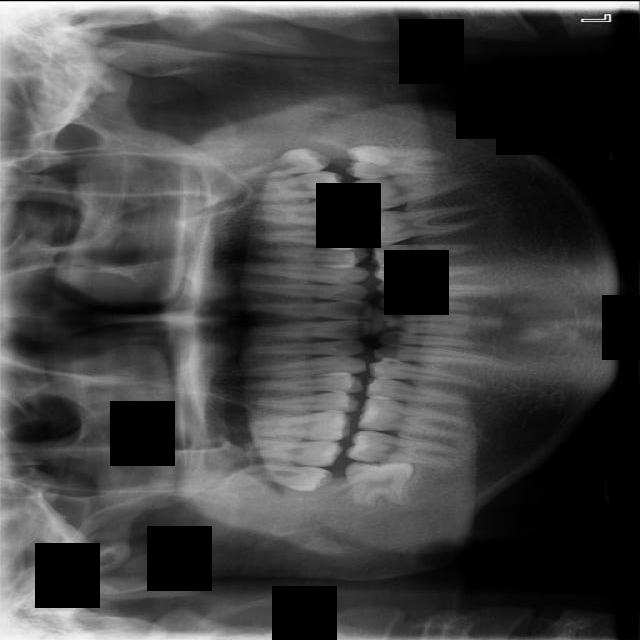3M ESPE Implant: (219, 459, 335, 493)
73: (599, 26, 609, 28)
BioHorizons Implant: (220, 169, 350, 203)
BioLife Implant: (224, 144, 332, 183)
Biomet 3i Implant: (344, 138, 446, 180)
Blue Sky Bio Implant: (350, 160, 468, 215)
Caries: (221, 435, 342, 466)
Implant: (345, 428, 460, 467)
Keystone Dental Implant: (343, 455, 416, 507)
